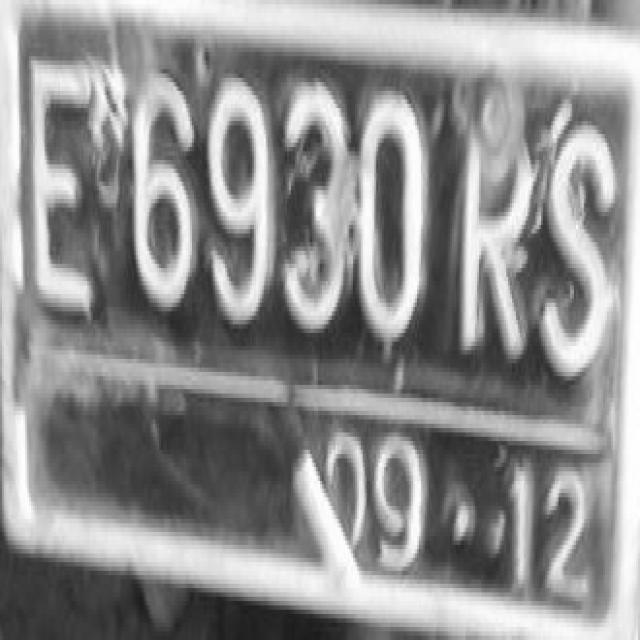license-plat: (4, 3, 637, 634)
